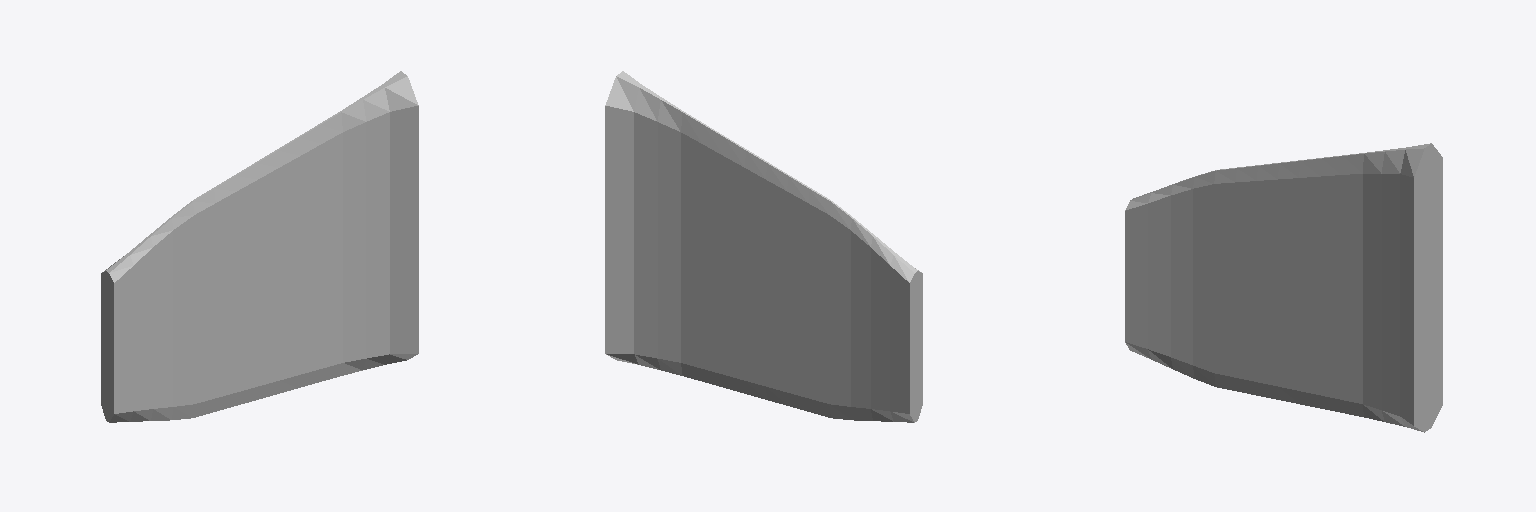
The model's file is wing.obj.
The picture shows the model from 3 angles: view 1: azimuth 30°, elevation 25°; view 2: azimuth 150°, elevation 25°; view 3: azimuth 330°, elevation 25°; orthographic projection.
Parts seen in each view (by area): view 1: Cube; view 2: Cube; view 3: Cube.
Part boxes in pixels (left/top/right/bottom): Cube: left=101, top=71, right=418, bottom=422; Cube: left=605, top=71, right=922, bottom=422; Cube: left=1125, top=143, right=1442, bottom=432.
Size of the model in its own units: 3 by 2.83 by 0.5.